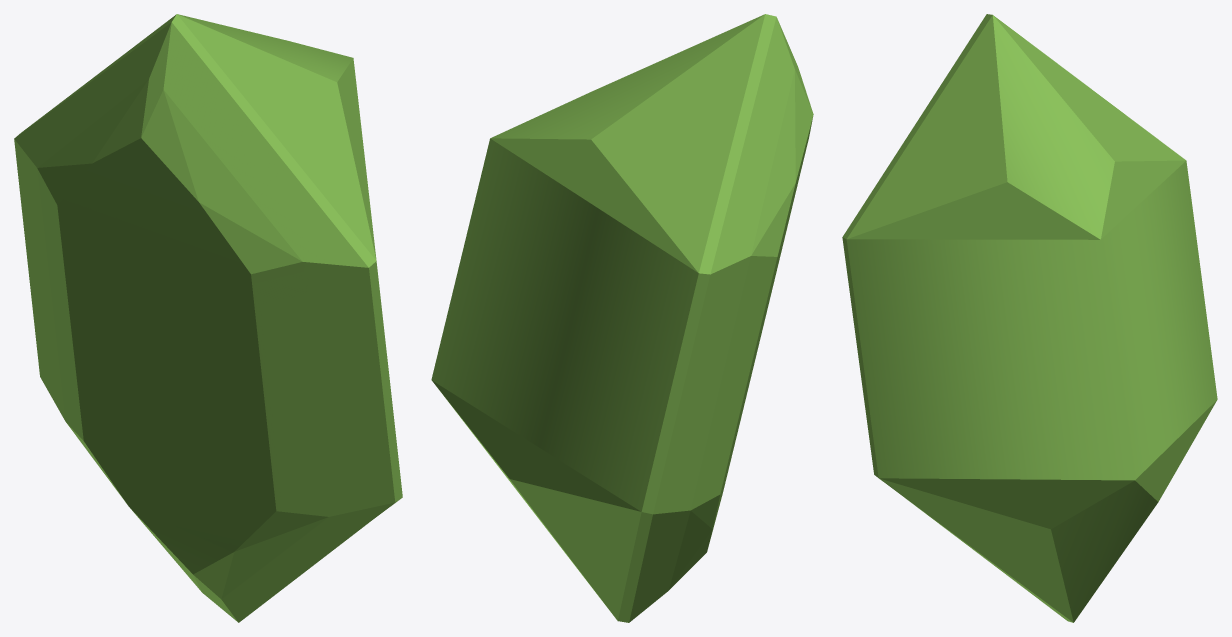
The model's file is TL4_8shapes_Hex_Classic_Stone.001 3.glb.
3 views of the same model, side by side, from view 1: azimuth 30°, elevation 25°; view 2: azimuth 150°, elevation 25°; view 3: azimuth 270°, elevation 25° (orthographic). The views are drawn at different scales.
Parts seen in each view (by area): view 1: TL4_8shapes_Hex_Classic_Stone.001; view 2: TL4_8shapes_Hex_Classic_Stone.001; view 3: TL4_8shapes_Hex_Classic_Stone.001.
Boxes of the visible parts, x1=… form: TL4_8shapes_Hex_Classic_Stone.001: x1=14, y1=14, x2=402, y2=622; TL4_8shapes_Hex_Classic_Stone.001: x1=431, y1=14, x2=813, y2=622; TL4_8shapes_Hex_Classic_Stone.001: x1=842, y1=14, x2=1217, y2=622.
Bounding box in the file's own units: 0.3554 × 0.6443 × 0.3894.
